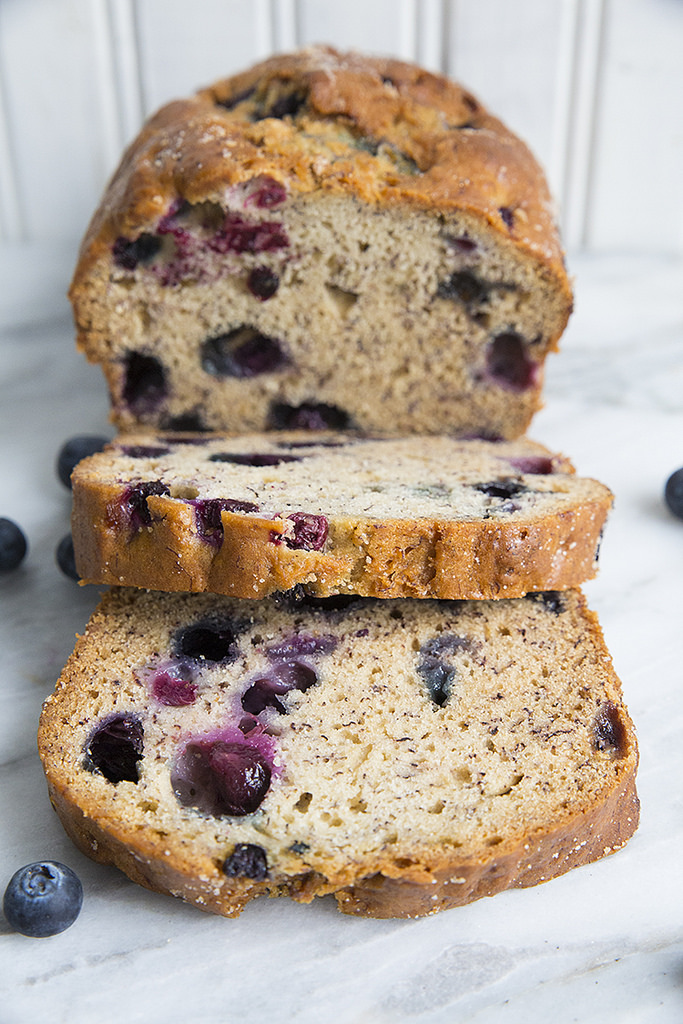slice of bread: (68, 580, 637, 894), (85, 85, 553, 449), (77, 413, 630, 582)
